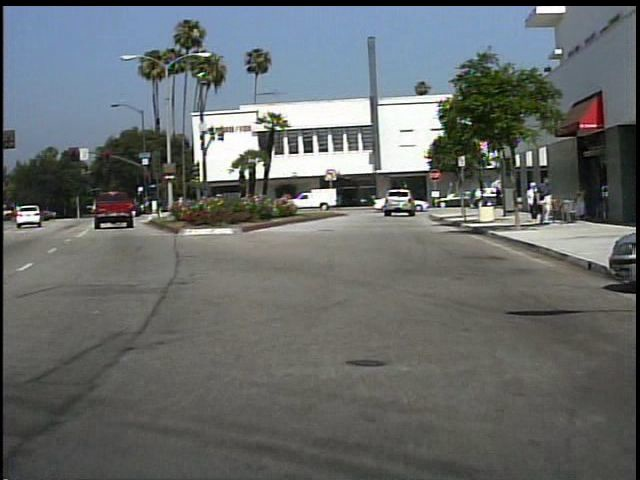person: (537, 177, 555, 230), (485, 183, 508, 216), (524, 181, 539, 223), (572, 182, 587, 223), (370, 189, 391, 217)
